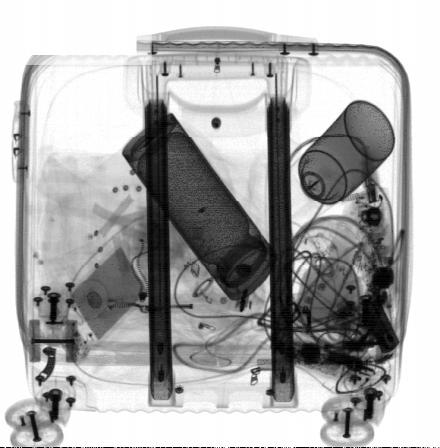Lighter: (362, 294, 400, 354)
Powerbank: (42, 240, 154, 366)
Sprayer: (283, 99, 396, 218)
